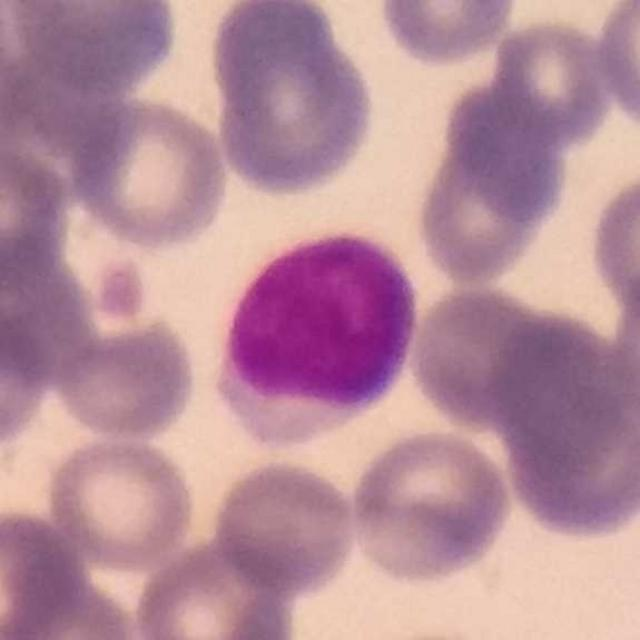Lymphocyte: (218, 237, 432, 447)
RBC: (205, 0, 379, 201), (489, 316, 640, 546), (411, 110, 572, 290), (345, 425, 515, 588), (67, 91, 234, 254), (404, 280, 570, 436), (41, 432, 200, 573), (206, 454, 361, 598), (51, 302, 203, 445), (482, 13, 618, 155), (130, 532, 303, 640), (3, 0, 184, 99), (0, 232, 92, 413), (0, 136, 77, 292), (0, 504, 88, 639), (375, 0, 524, 70), (0, 575, 145, 640), (0, 289, 53, 458), (585, 167, 640, 323), (591, 0, 640, 136)
